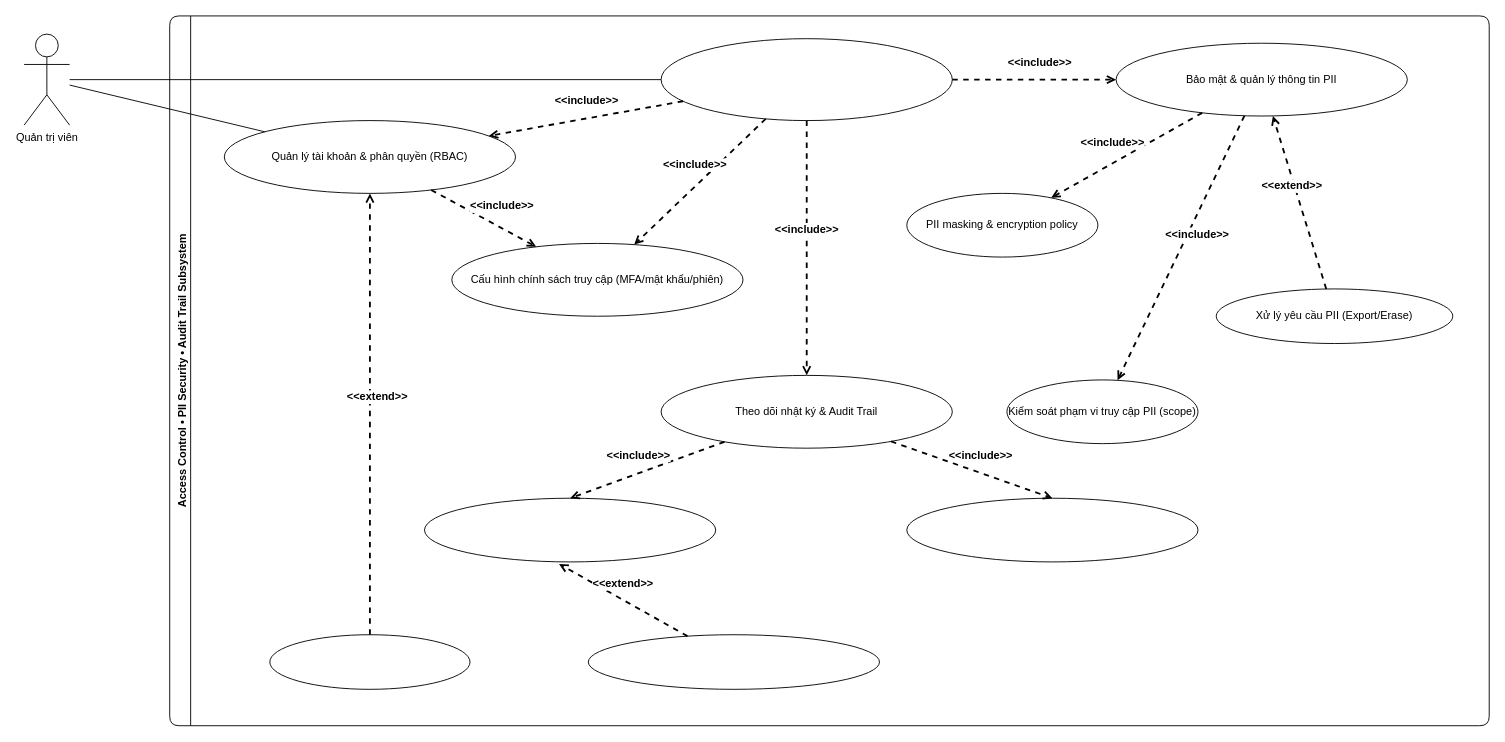
The diagram is 1505 pixels wide and 742 high, and some of its shapes have lost their labels. Here are the shapes that lost their labels. From the top down, the centre of each, then its label:
the point at 806,79: Quản trị quyền/PII & audit trail
the point at 570,529: Xem/Tìm kiếm nhật ký (who/when/what/IP)
the point at 1052,529: Xuất báo cáo Audit (định kỳ/theo bộ lọc)
the point at 369,661: Tạm khóa tài khoản
the point at 733,661: Cảnh báo bảo mật (bất thường/MFA/Export raw)
